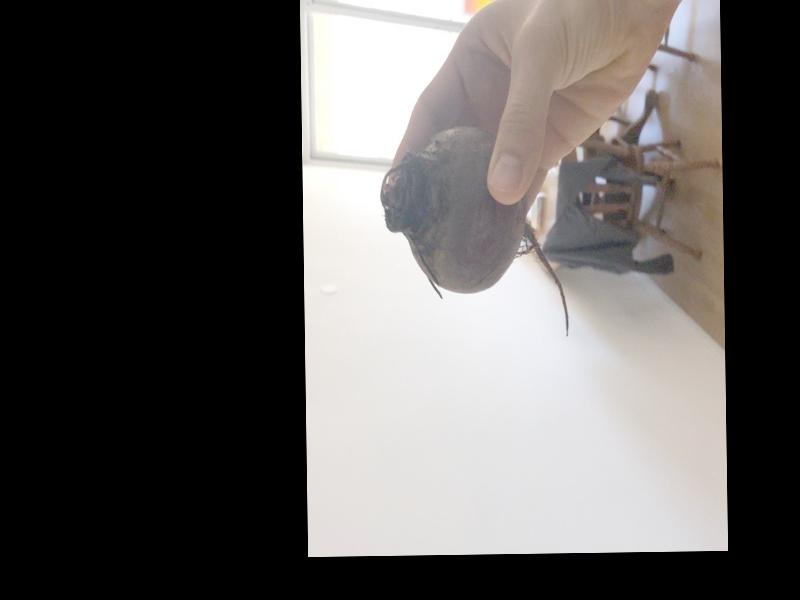Beet: (378, 125, 568, 341)
